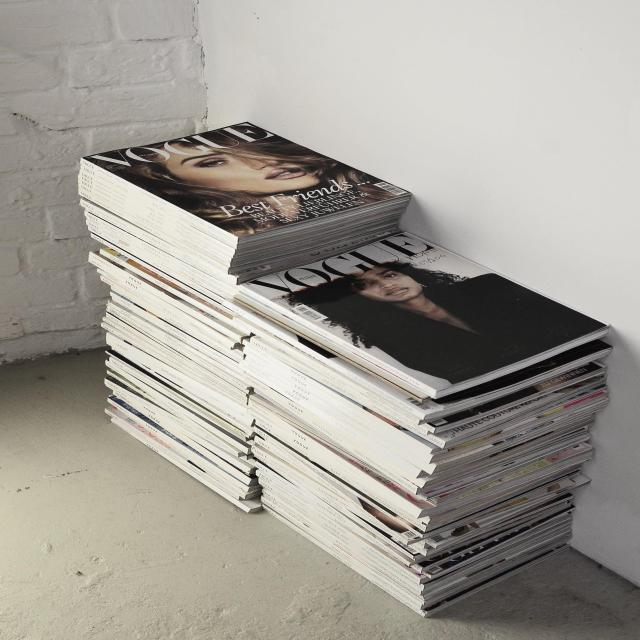paper: (78, 117, 613, 619)
